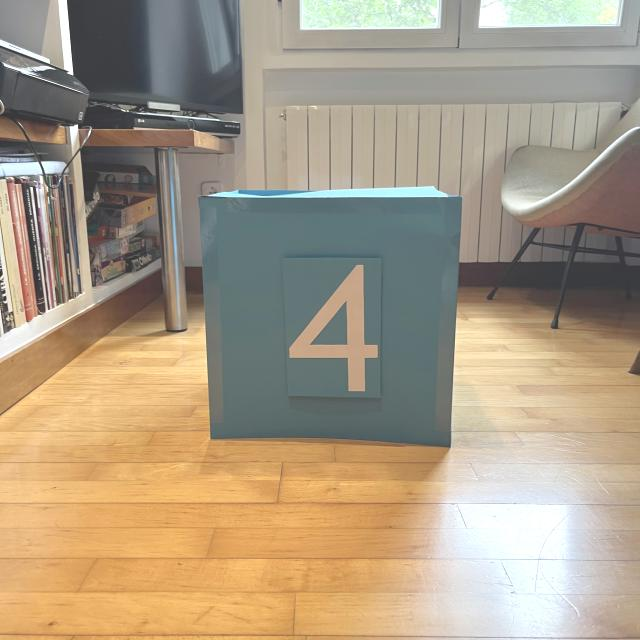box: (193, 182, 466, 450)
